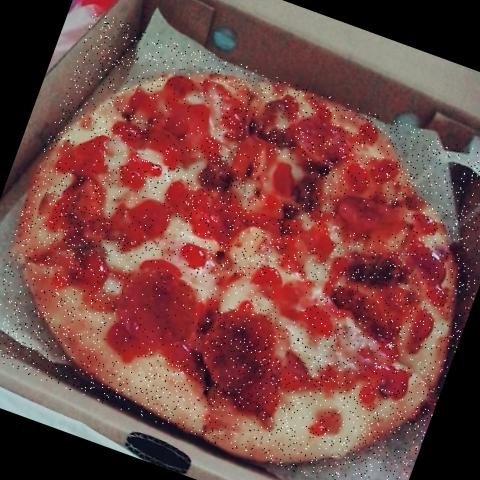Pepperoni: (106, 262, 210, 362), (195, 301, 283, 398), (316, 281, 404, 351), (330, 236, 402, 295), (260, 155, 312, 207), (163, 71, 200, 103), (255, 96, 286, 132)
Pizza: (0, 10, 480, 480)
Tomatoes: (144, 87, 223, 173), (398, 233, 462, 303), (61, 246, 125, 310), (108, 189, 170, 250), (334, 192, 403, 245), (52, 166, 108, 226), (353, 357, 414, 410), (283, 109, 338, 164), (271, 275, 322, 330), (96, 321, 153, 369), (202, 80, 258, 122), (68, 130, 114, 179), (186, 194, 232, 242), (111, 152, 166, 192), (228, 136, 272, 185), (268, 222, 314, 268), (382, 282, 420, 332), (295, 214, 338, 258), (340, 163, 382, 204), (248, 190, 286, 232), (276, 351, 311, 389), (138, 252, 182, 281), (250, 264, 286, 298), (110, 118, 147, 148), (164, 178, 196, 212), (252, 377, 282, 413), (300, 304, 333, 336), (124, 91, 156, 122), (179, 243, 208, 270)
